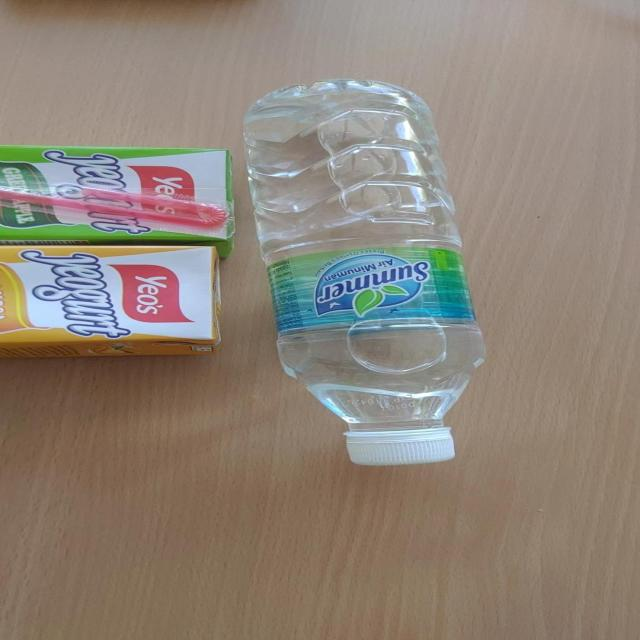plastic bottle: (247, 77, 492, 431)
plastic bottle cap: (342, 430, 462, 466)
